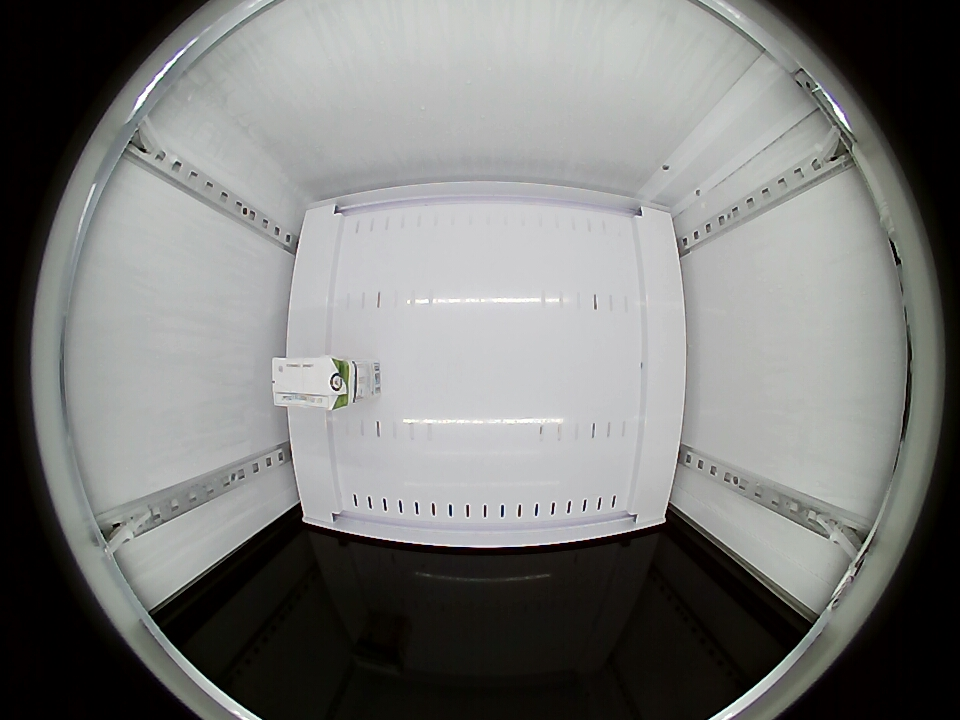mengniu: (270, 355, 350, 412)
